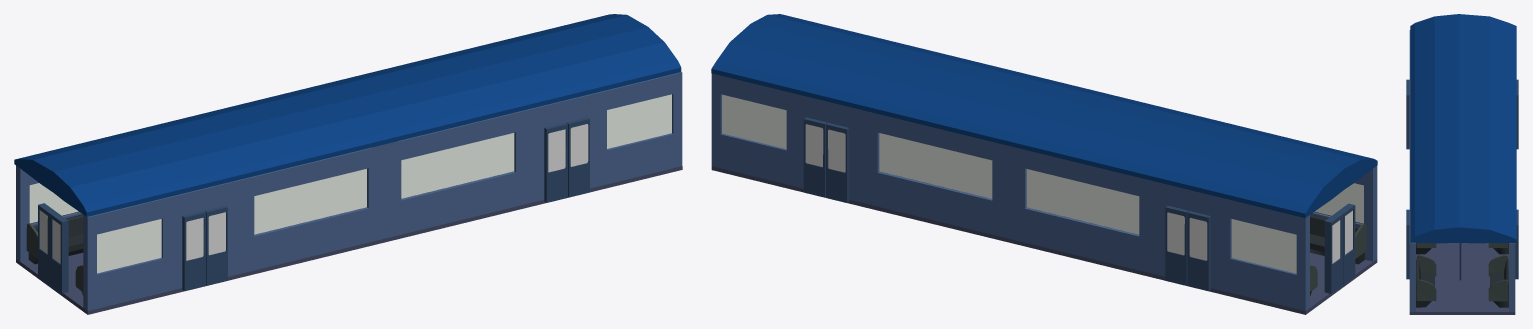
Rendered from Train BG2.fbx.
The picture shows the model from 3 angles, left to right: view 1: azimuth 30°, elevation 25°; view 2: azimuth 150°, elevation 25°; view 3: azimuth 270°, elevation 25°; orthographic projection. The views are drawn at different scales.
Parts seen in each view (by area): view 1: Atap, Tembok.004, Tembok.005, Kaca Gede.003, Kaca Gede.002, Lantai, Kaca Kecil.003, Kaca Kecil.002, Tembok.001, Pintu(bg).007, Pintu(bg).002, Pintu.003 (+9 smaller); view 2: Atap, Tembok.001, Tembok.002, Kaca Gede.001, Kaca Gede.004, Lantai, Kaca Kecil.004, Kaca Kecil.001, Tembok.004, Pintu(bg).004, Pintu.004, Pintu(bg).006 (+9 smaller); view 3: Atap, Lantai, Tembok.005, HandRest.002, HandRest.006, Tembok.002, Kursi.002, Kursi.006, Pintu(bg).008, Pintu(bg).001, Pintu(bg).003, Tembok.004 (+6 smaller).
Part boxes in pixels (left/top/right/bottom): Atap: left=14, top=14, right=681, bottom=216; Tembok.004: left=83, top=145, right=384, bottom=310; Tembok.005: left=380, top=72, right=682, bottom=238; Kaca Gede.003: left=401, top=133, right=514, bottom=198; Kaca Gede.002: left=254, top=169, right=366, bottom=234; Lantai: left=16, top=166, right=682, bottom=314; Kaca Kecil.003: left=97, top=219, right=161, bottom=273; Kaca Kecil.002: left=607, top=94, right=671, bottom=148; Tembok.001: left=16, top=165, right=82, bottom=261; Pintu(bg).007: left=544, top=122, right=567, bottom=202; Pintu(bg).002: left=182, top=211, right=205, bottom=291; Pintu.003: left=50, top=212, right=68, bottom=293; Atap: left=711, top=14, right=1377, bottom=217; Tembok.001: left=1008, top=146, right=1309, bottom=310; Tembok.002: left=711, top=73, right=1008, bottom=238; Kaca Gede.001: left=1026, top=169, right=1139, bottom=234; Kaca Gede.004: left=879, top=133, right=992, bottom=198; Lantai: left=711, top=166, right=1377, bottom=314; Kaca Kecil.004: left=1231, top=219, right=1296, bottom=273; Kaca Kecil.001: left=722, top=94, right=786, bottom=148; Tembok.004: left=1311, top=166, right=1377, bottom=261; Pintu(bg).004: left=826, top=122, right=849, bottom=202; Pintu.004: left=1324, top=212, right=1342, bottom=293; Pintu(bg).006: left=1187, top=211, right=1210, bottom=291; Atap: left=1410, top=14, right=1516, bottom=243; Lantai: left=1409, top=243, right=1515, bottom=314; Tembok.005: left=1409, top=141, right=1415, bottom=311; HandRest.002: left=1488, top=255, right=1508, bottom=301; HandRest.006: left=1416, top=255, right=1436, bottom=300; Tembok.002: left=1509, top=243, right=1515, bottom=311; Kursi.002: left=1490, top=259, right=1508, bottom=307; Kursi.006: left=1416, top=259, right=1434, bottom=307; Pintu(bg).008: left=1406, top=217, right=1409, bottom=279; Pintu(bg).001: left=1406, top=87, right=1409, bottom=149; Pintu(bg).003: left=1515, top=217, right=1518, bottom=279; Tembok.004: left=1409, top=30, right=1410, bottom=140.
Size of the model in its own units: 5270 by 1002 by 1170.
